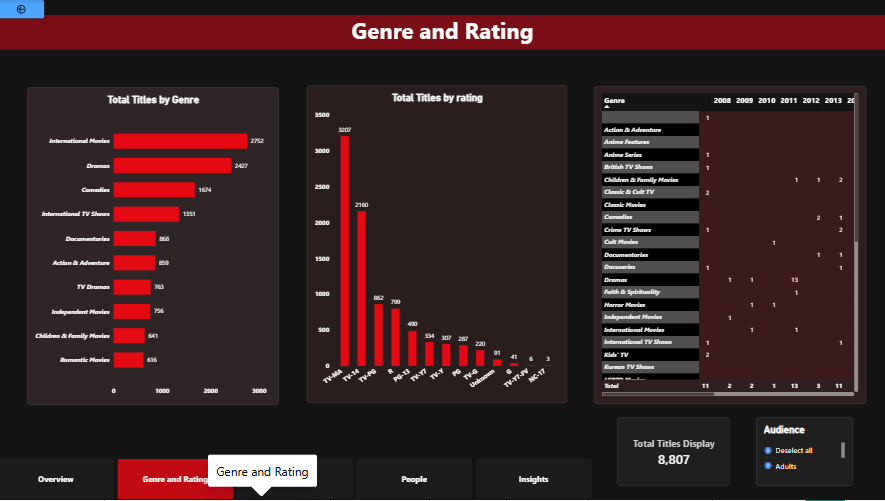

Layout of this report page (visuals, bound fields, positions):
{"tool":"powerbi","page":{"name":"Genre and Rating","canvas":[1920,1080],"ordinal":1},"visuals":[{"type":"textbox","box":[0,32.5,1920,75],"z":0},{"type":"barChart","fields":{"Category":["Title_Genre.Genre"],"Y":["_Measures.Total Titles"]},"box":[62.6,187.9,544.3,686.9],"z":1000},{"type":"columnChart","fields":{"Category":["Titles.rating"],"Y":["_Measures.Total Titles"]},"box":[666.5,183.9,561.6,686.9],"z":2000},{"type":"pivotTable","fields":{"Columns":["Date.Year"],"Rows":["Title_Genre.Genre"],"Values":["_Measures.Total Titles"]},"box":[1287.6,186.5,587.5,686.9],"z":3000},{"type":"listSlicer","fields":{"Values":["Titles.Audience"]},"box":[1637.5,900,209.1,148.7],"z":7000},{"type":"actionButton","box":[0,0,100,40],"z":8000},{"type":"cardVisual","fields":{"Data":["_Measures.Total Titles Display"]},"box":[1337.5,900,244.1,149],"z":9000},{"type":"pageNavigator","box":[0,992.5,1282.5,87.5],"z":9001}]}

Visuals, with their boxes on the page's 1920x1080 design canvas (x1, y1, x2, y2). These are canvas units, not pixel positions in the 885x501 screenshot, which may show the page scaled, cropped or inside an application window:
textbox: (0,32,1920,108)
barChart - Title_Genre.Genre x _Measures.Total Titles: (63,188,607,875)
columnChart - Titles.rating x _Measures.Total Titles: (666,184,1228,871)
pivotTable - Date.Year x Title_Genre.Genre: (1288,186,1875,873)
listSlicer - Titles.Audience: (1638,900,1847,1049)
actionButton: (0,0,100,40)
cardVisual - _Measures.Total Titles Display: (1338,900,1582,1049)
pageNavigator: (0,992,1282,1080)
